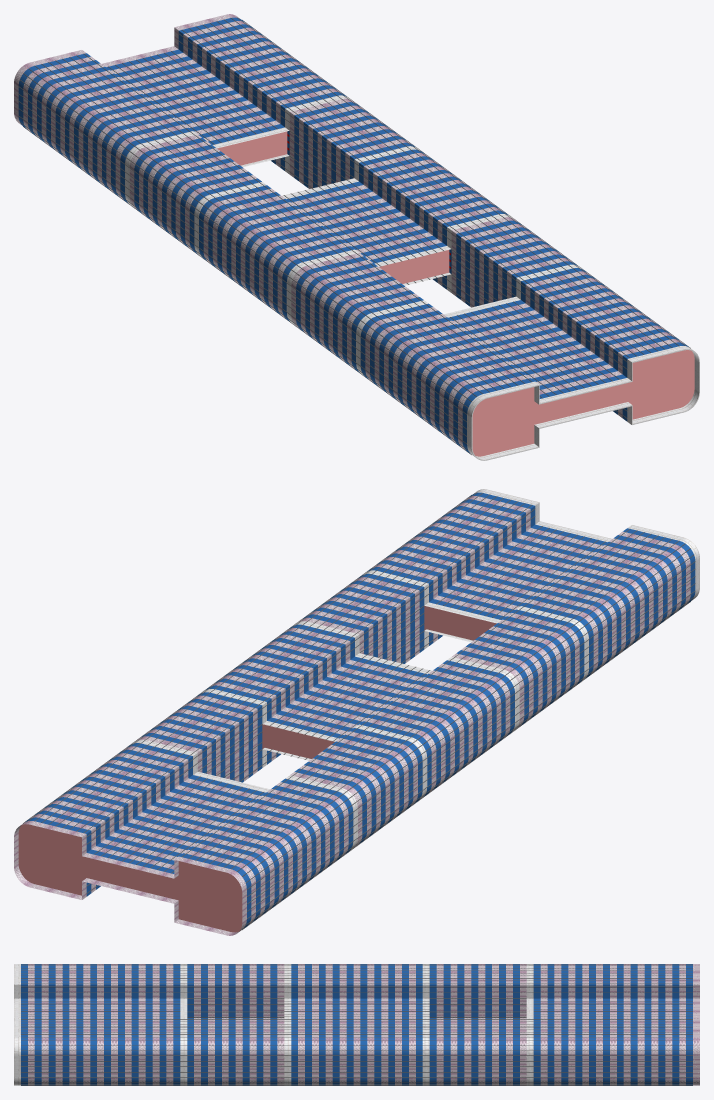
The model's file is Sky076.obj.
3 views of the same model, one above another, from view 1: azimuth 30°, elevation 25°; view 2: azimuth 150°, elevation 25°; view 3: azimuth 270°, elevation 25° (orthographic). The views are drawn at different scales.
Parts seen in each view (by area): view 1: glass_01, wall_01, frame_01, slab_01, wall_1_01, wall_1_02; view 2: glass_01, wall_01, frame_01, slab_01, wall_1_01; view 3: glass_01, wall_01, frame_01, wall_1_01.
Boxes of the visible parts, x1,y1,x2,y2 form: glass_01: [18, 17, 688, 453]; wall_01: [14, 14, 683, 449]; frame_01: [18, 17, 690, 454]; slab_01: [217, 131, 694, 456]; wall_1_01: [125, 95, 699, 459]; wall_1_02: [471, 349, 699, 460]; glass_01: [25, 492, 695, 928]; wall_01: [14, 496, 690, 935]; frame_01: [23, 492, 695, 929]; slab_01: [18, 606, 496, 932]; wall_1_01: [131, 489, 699, 851]; glass_01: [21, 964, 692, 1085]; wall_01: [28, 964, 699, 1085]; frame_01: [21, 964, 692, 1085]; wall_1_01: [14, 964, 533, 1085].
Size of the model in its own units: 1715 by 455 by 5940.
6 materials, 2 textured.
